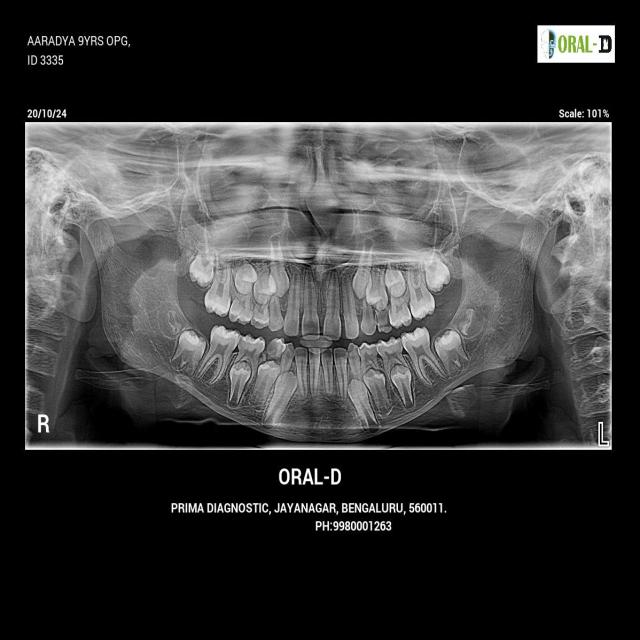Premolars: (358, 339, 382, 379)
